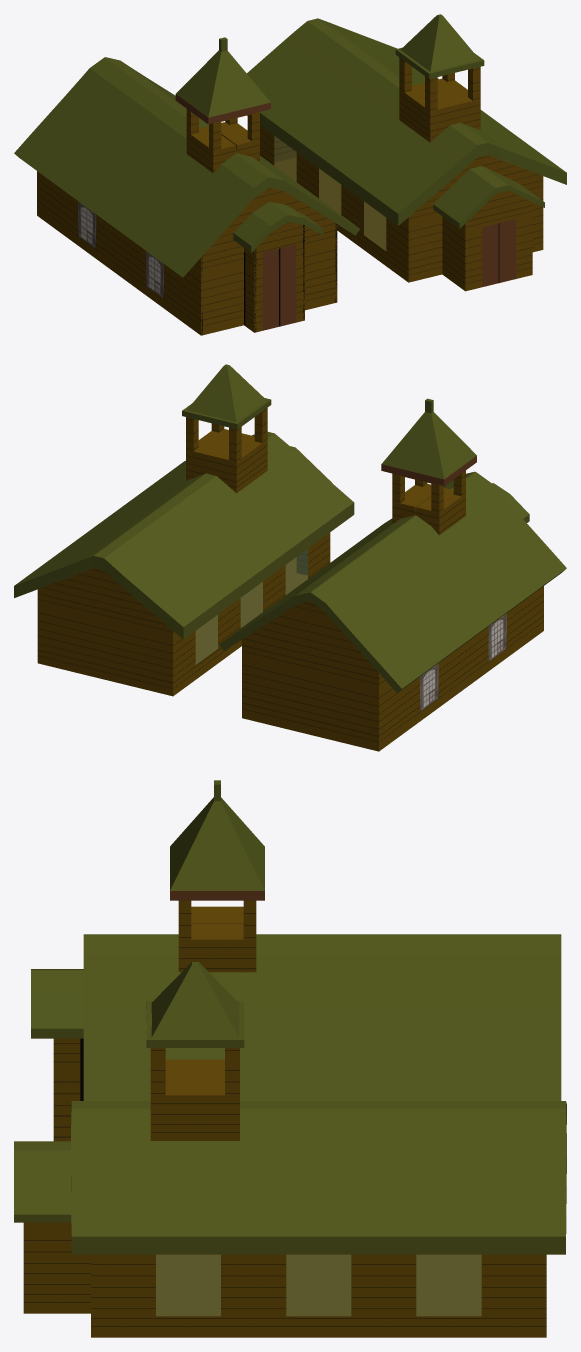
The model's file is Capela low poly_Blender_color.fbx.
The picture shows the model from 3 angles, top to bottom: view 1: azimuth 30°, elevation 25°; view 2: azimuth 150°, elevation 25°; view 3: azimuth 270°, elevation 25°; orthographic projection. The views are drawn at different scales.
Visible parts, largest first — view 1: Cube, Cube.001; view 2: Cube, Cube.001; view 3: Cube.001, Cube.
Boxes of the visible parts, box(x1,y1,x2,y2) form: Cube: box(14, 37, 359, 335); Cube.001: box(247, 14, 566, 291); Cube: box(219, 398, 566, 751); Cube.001: box(14, 364, 354, 696); Cube.001: box(14, 962, 566, 1337); Cube: box(31, 780, 561, 1141).
Bounding box in the file's own units: 1867 × 1144 × 1598.
